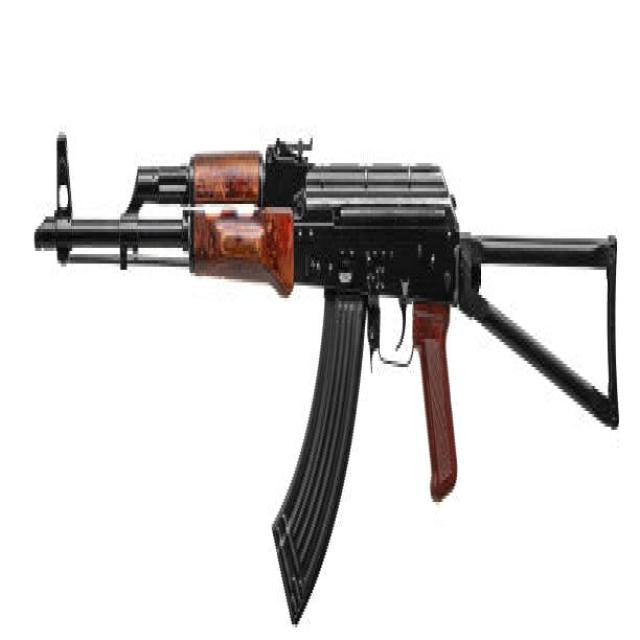rifle: (33, 118, 625, 627)
